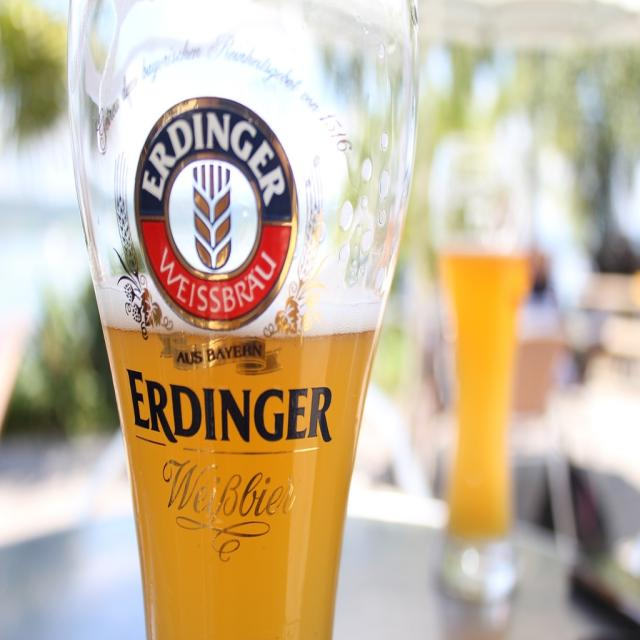erdinger: (93, 37, 356, 463)
